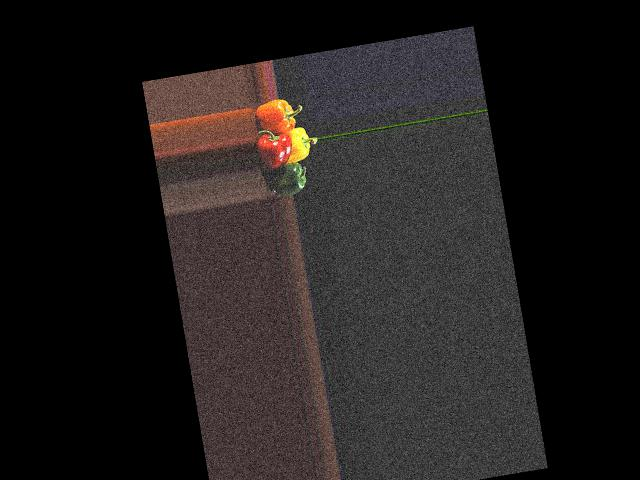bell_pepper: (248, 96, 301, 138)
